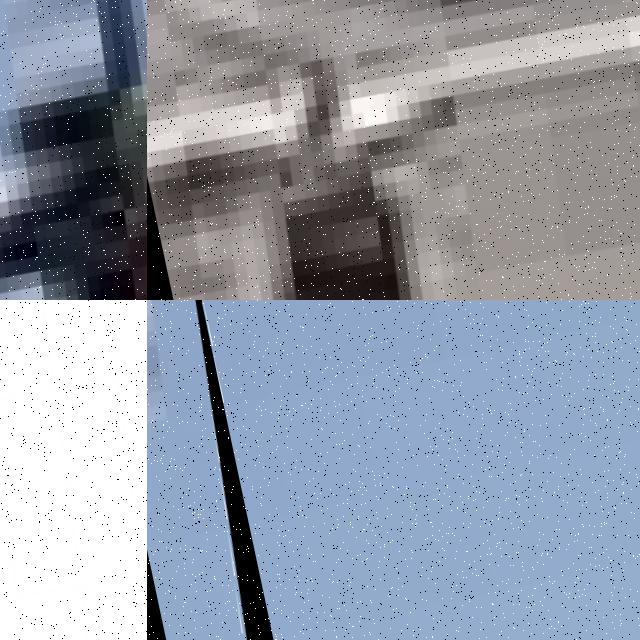drone: (147, 0, 640, 300), (147, 300, 300, 640), (0, 300, 147, 640), (0, 0, 147, 300)
